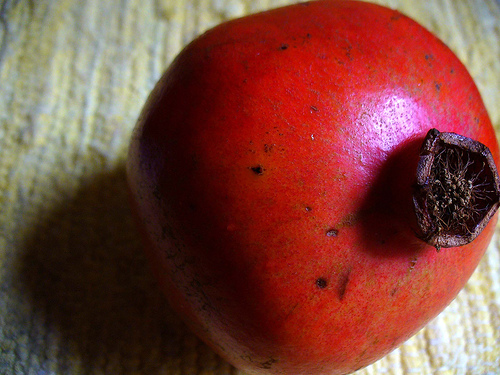pomogranate: (129, 2, 499, 374)
